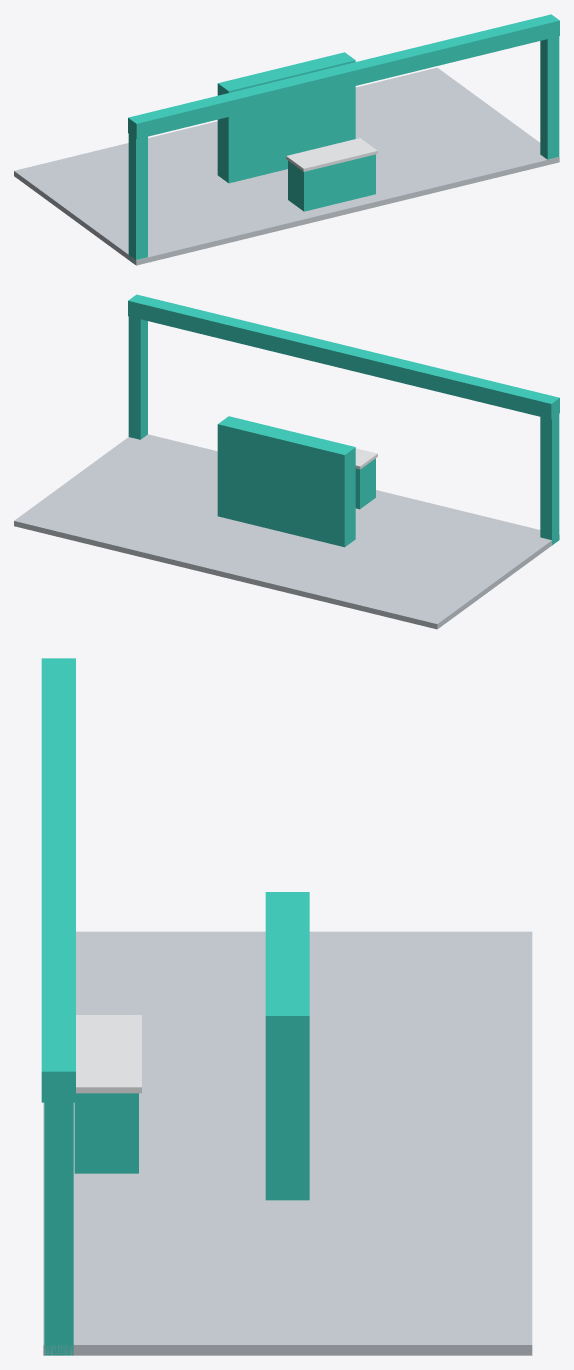
3 views of the same model, one above another, from view 1: azimuth 30°, elevation 25°; view 2: azimuth 150°, elevation 25°; view 3: azimuth 270°, elevation 25° (orthographic). The views are drawn at different scales.
Parts seen in each view (by area): view 1: Exhibition Booth Concept; view 2: Exhibition Booth Concept; view 3: Exhibition Booth Concept.
Boxes of the visible parts, x1=… form: Exhibition Booth Concept: x1=14, y1=14, x2=559, y2=265; Exhibition Booth Concept: x1=14, y1=294, x2=559, y2=629; Exhibition Booth Concept: x1=41, y1=658, x2=532, y2=1355.
Size of the model in its own units: 10 by 3.2 by 5.02.
